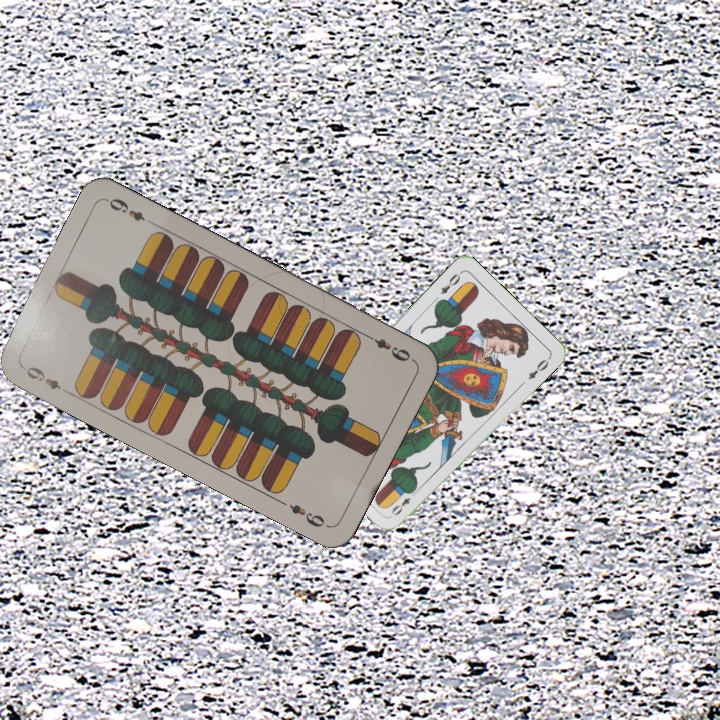E9: (361, 330, 414, 364), (18, 361, 64, 392)
EO: (387, 486, 420, 518), (436, 267, 464, 297)
